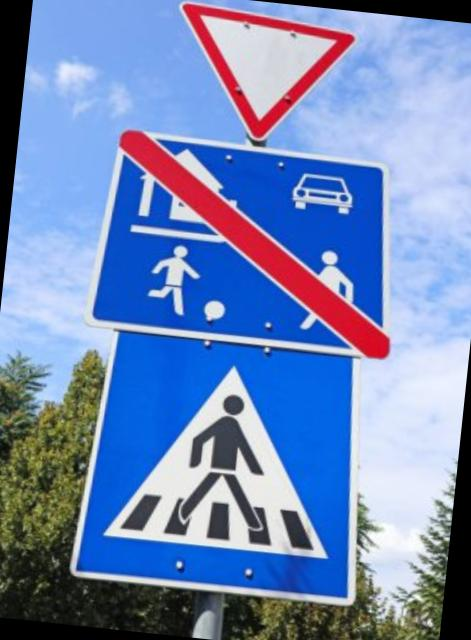crosswalk-sign: (69, 328, 383, 607)
